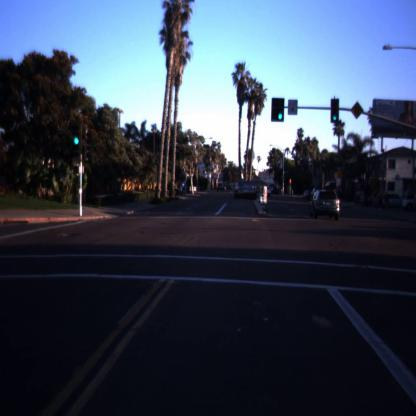trafficlight: (271, 97, 284, 123), (73, 124, 81, 157), (331, 99, 339, 123)
